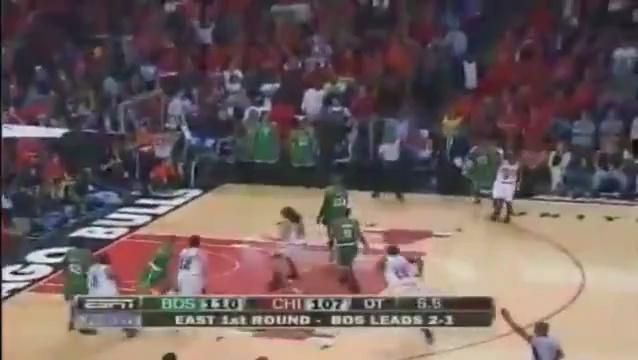Backboard: (118, 86, 164, 153)
Basket: (147, 132, 178, 159)
Person: (269, 204, 310, 289), (333, 207, 369, 294), (172, 232, 215, 299), (378, 240, 428, 296), (317, 172, 349, 258), (137, 232, 177, 294), (491, 147, 524, 222), (464, 141, 494, 204), (62, 237, 89, 296), (89, 251, 123, 295)
Referee: (511, 317, 583, 360), (373, 128, 408, 204)
